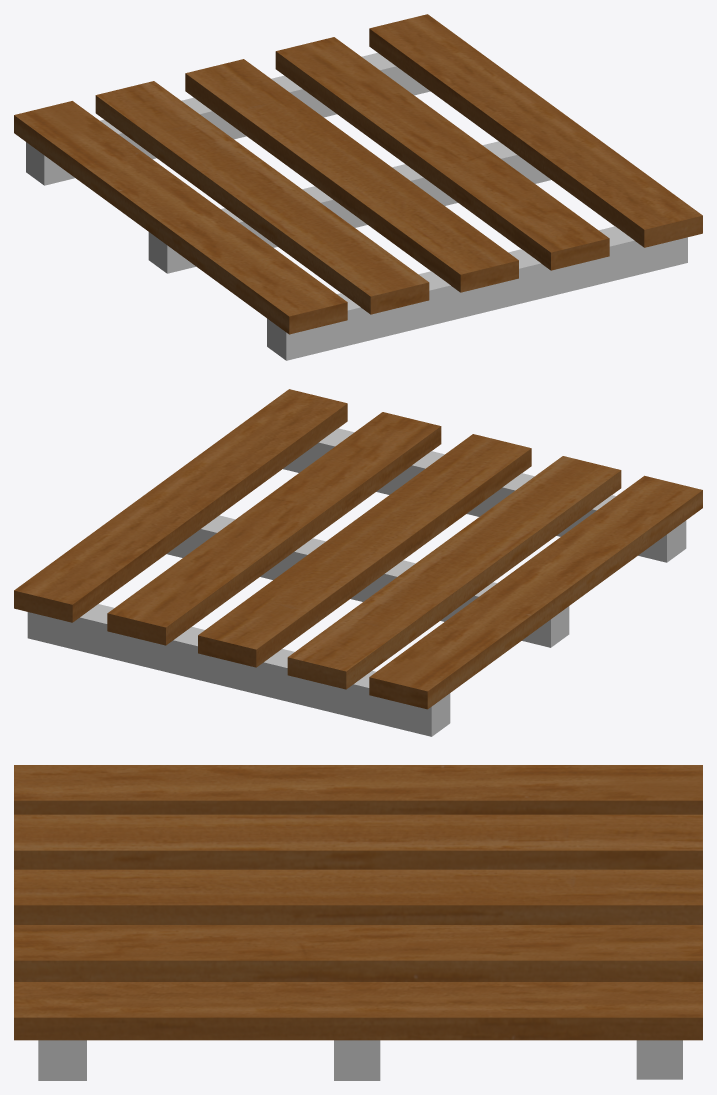
The model's file is wood base.fbx.
3 renders of one model, top to bottom at view 1: azimuth 30°, elevation 25°; view 2: azimuth 150°, elevation 25°; view 3: azimuth 270°, elevation 25°, orthographic. The views are drawn at different scales.
Visible parts, largest first — view 1: platform, supporter; view 2: platform, supporter; view 3: platform, supporter.
Part boxes in pixels (x1,y1,x2,y2): platform: [14, 14, 702, 334]; supporter: [26, 52, 687, 360]; platform: [14, 389, 702, 709]; supporter: [27, 428, 686, 736]; platform: [14, 765, 702, 1040]; supporter: [38, 1040, 682, 1080].
Bounding box in the file's own units: 510 × 62.51 × 587.
